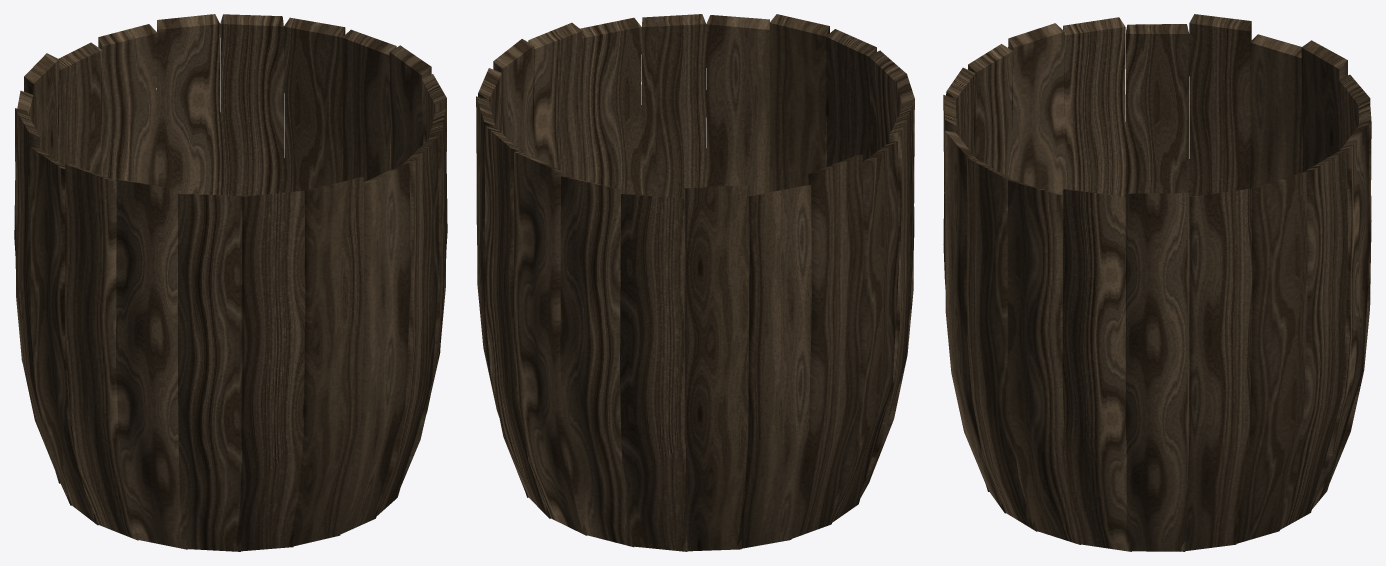
Rendered from wood_prop2_LOD0.FBX.
3 views of the same model, side by side, from view 1: azimuth 30°, elevation 25°; view 2: azimuth 150°, elevation 25°; view 3: azimuth 270°, elevation 25° (orthographic).
Visible parts, largest first — view 1: wood_prop2_LOD0; view 2: wood_prop2_LOD0; view 3: wood_prop2_LOD0.
Part boxes in pixels (x1,y1,x2,y2): wood_prop2_LOD0: (14, 14, 447, 551); wood_prop2_LOD0: (476, 14, 914, 551); wood_prop2_LOD0: (943, 14, 1371, 551).
Bounding box in the file's own units: 47.74 × 46.36 × 47.74.
